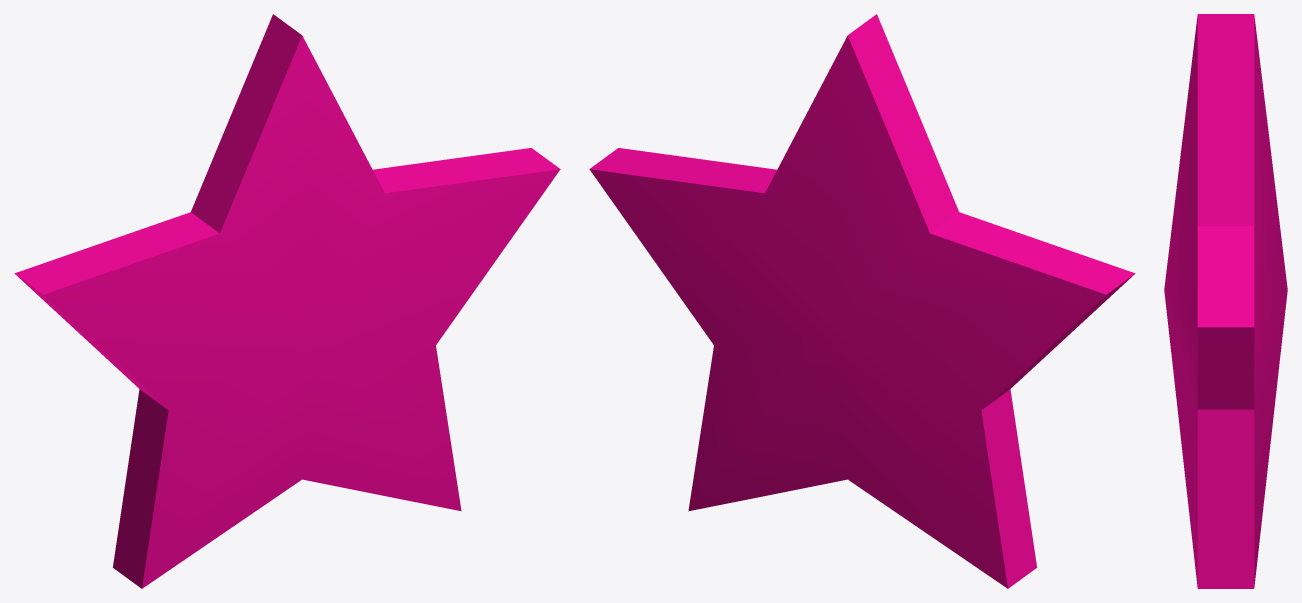
File: 03 star.FBX
The picture shows the model from 3 angles, left to right: view 1: azimuth 30°, elevation 25°; view 2: azimuth 150°, elevation 25°; view 3: azimuth 270°, elevation 25°; orthographic projection. The views are drawn at different scales.
Parts seen in each view (by area): view 1: SM_Icon_Star_01; view 2: SM_Icon_Star_01; view 3: SM_Icon_Star_01.
Boxes of the visible parts, <box> form: SM_Icon_Star_01: <box>14,14,560,588</box>; SM_Icon_Star_01: <box>589,14,1135,588</box>; SM_Icon_Star_01: <box>1164,14,1287,588</box>.
Bounding box in the file's own units: 51.23 × 48.74 × 10.92.
